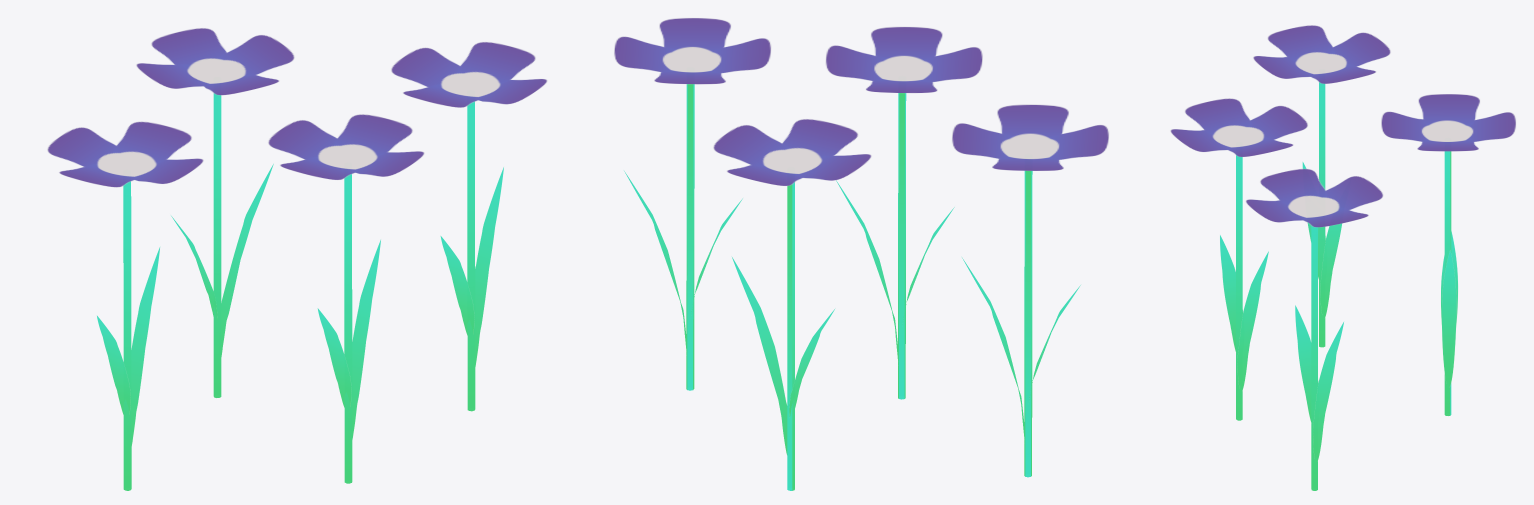
Rendered from Flowers_n03_27.glb.
3 renders of one model, left to right at view 1: azimuth 30°, elevation 25°; view 2: azimuth 150°, elevation 25°; view 3: azimuth 270°, elevation 25°, orthographic. The views are drawn at different scales.
Visible parts, largest first — view 1: polySurface721; view 2: polySurface721; view 3: polySurface721.
Boxes of the visible parts, bbox=[...] form: polySurface721: bbox=[47, 28, 547, 490]; polySurface721: bbox=[614, 18, 1109, 490]; polySurface721: bbox=[1170, 25, 1515, 490].
Bounding box in the file's own units: 0.4 × 0.2433 × 0.284.
Materials: 1 (1 with a texture image).
